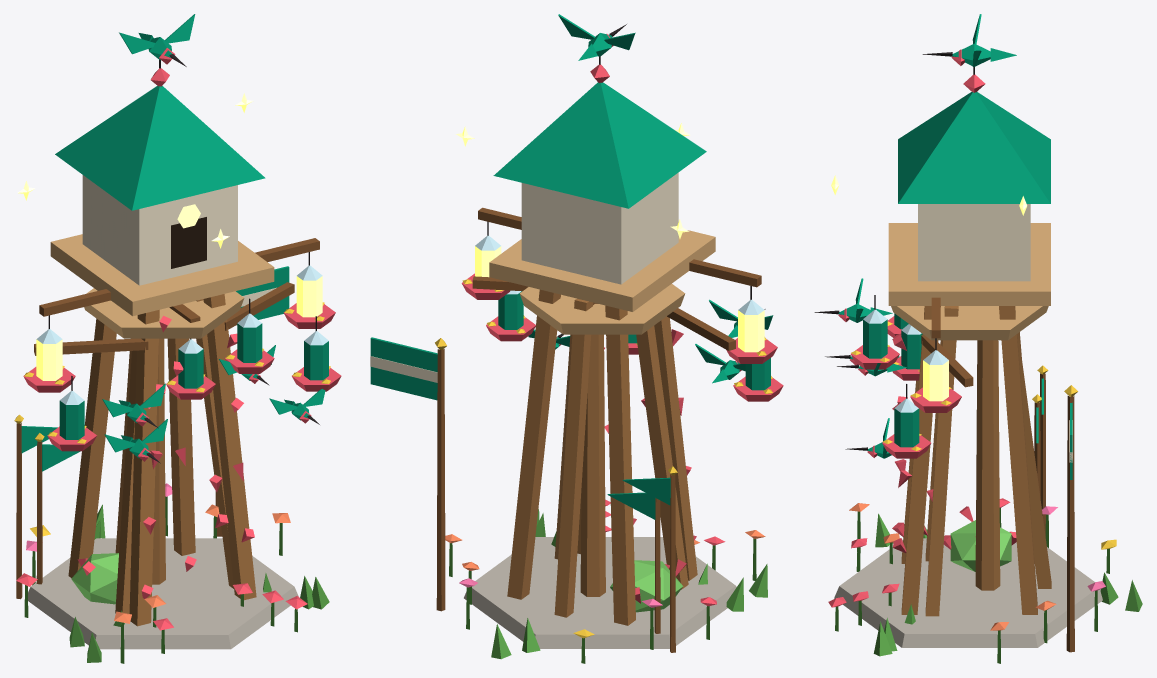
File: hummingbird-feeder-tower.glb
3 views of the same model, side by side, from view 1: azimuth 30°, elevation 25°; view 2: azimuth 150°, elevation 25°; view 3: azimuth 270°, elevation 25° (orthographic). The views are drawn at different scales.
Visible parts, largest first — view 1: lv3, lv2, lv1; view 2: lv3, lv2, lv1; view 3: lv3, lv2, lv1.
Part boxes in pixels (x1,y1,x2,y2): lv3: (14, 14, 335, 663); lv2: (26, 282, 341, 653); lv1: (71, 304, 275, 627); lv3: (370, 14, 777, 663); lv2: (462, 276, 783, 652); lv1: (551, 302, 707, 612); lv3: (814, 14, 1142, 663); lv2: (825, 306, 1118, 651); lv1: (837, 324, 1016, 624).
Bounding box in the file's own units: 1.66 × 2.79 × 1.47.
